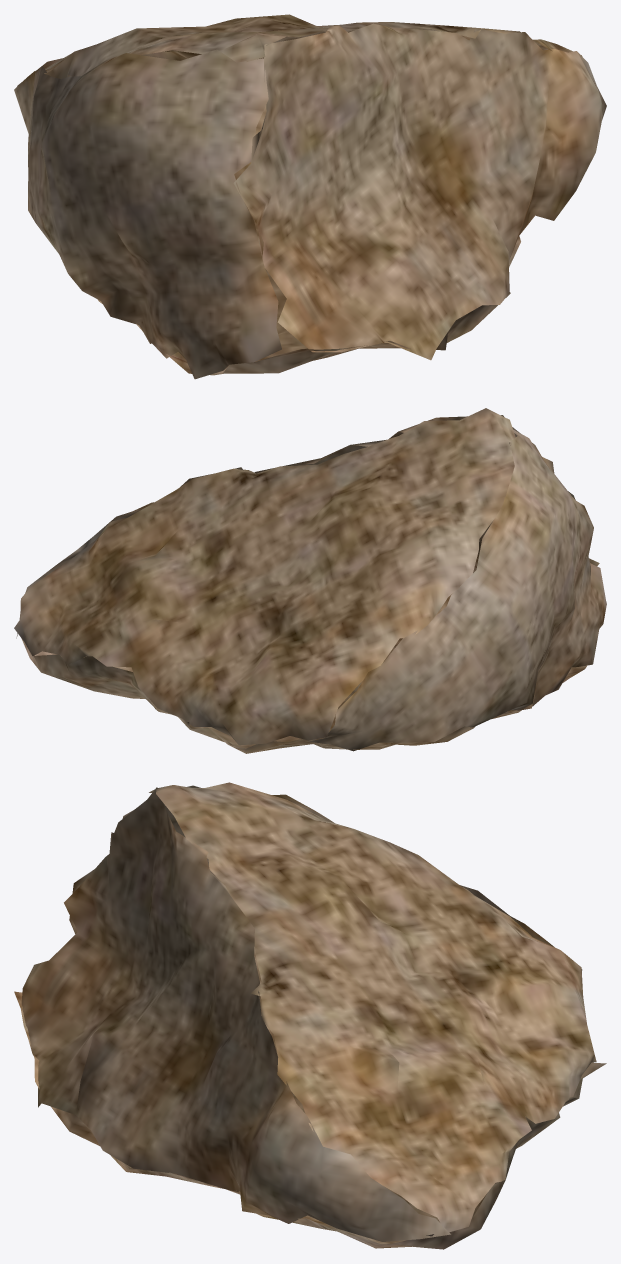
File: namaqualand_stones_01_v3.glb
The picture shows the model from 3 angles, top to bottom: view 1: azimuth 30°, elevation 25°; view 2: azimuth 150°, elevation 25°; view 3: azimuth 270°, elevation 25°; orthographic projection. The views are drawn at different scales.
Parts seen in each view (by area): view 1: lod0; view 2: lod0; view 3: lod0.
Part boxes in pixels (bbox=[...]): lod0: bbox=[14, 14, 606, 379]; lod0: bbox=[14, 408, 606, 753]; lod0: bbox=[14, 782, 606, 1249].
Size of what is drawn, in the model's own units: 0.1025 by 0.0562 by 0.0991.
1 material, 1 textured.
